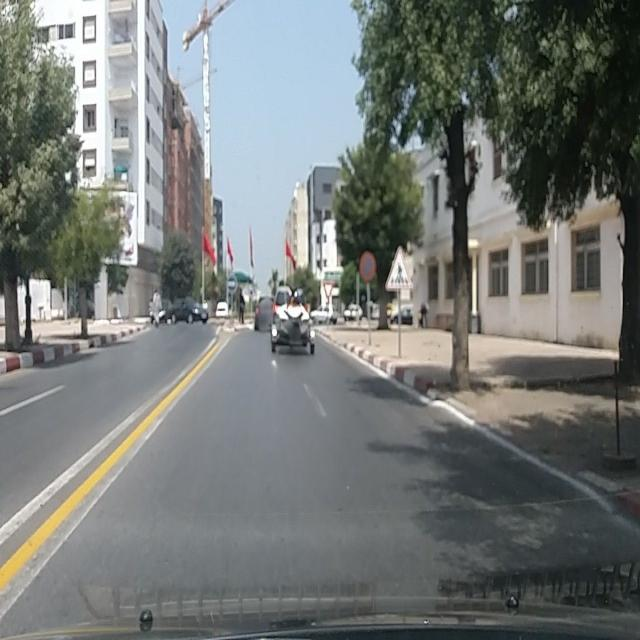forb_stopping: (360, 250, 377, 282)
